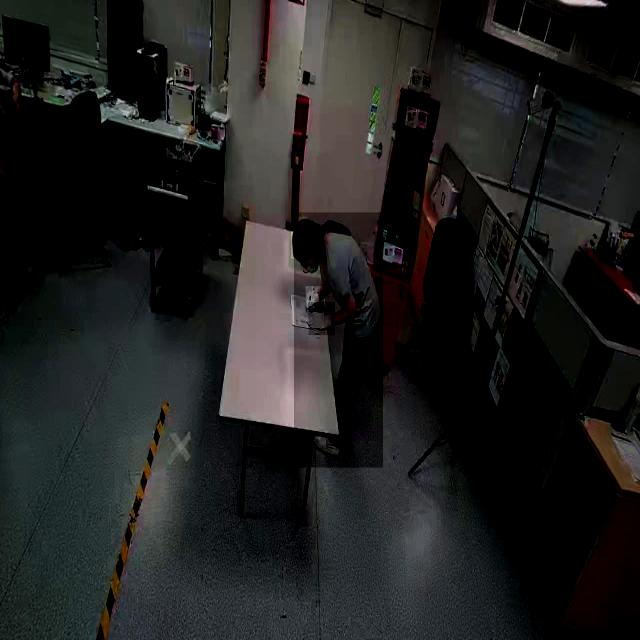hand_glove: (309, 302, 335, 335), (305, 286, 325, 308)
head_nohelmet: (291, 217, 307, 259)
person: (294, 212, 384, 468)
